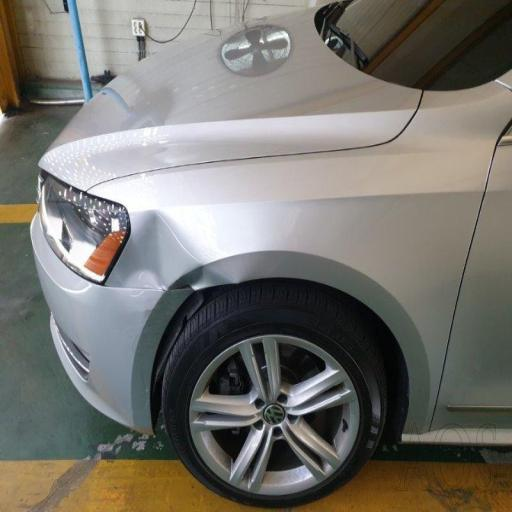broken: (85, 171, 239, 344)
